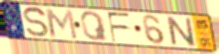6: (142, 14, 167, 47)
F: (106, 11, 132, 44)
M: (43, 7, 80, 41)
N: (165, 15, 198, 48)
Q: (79, 10, 109, 42)
S: (23, 6, 51, 39)
